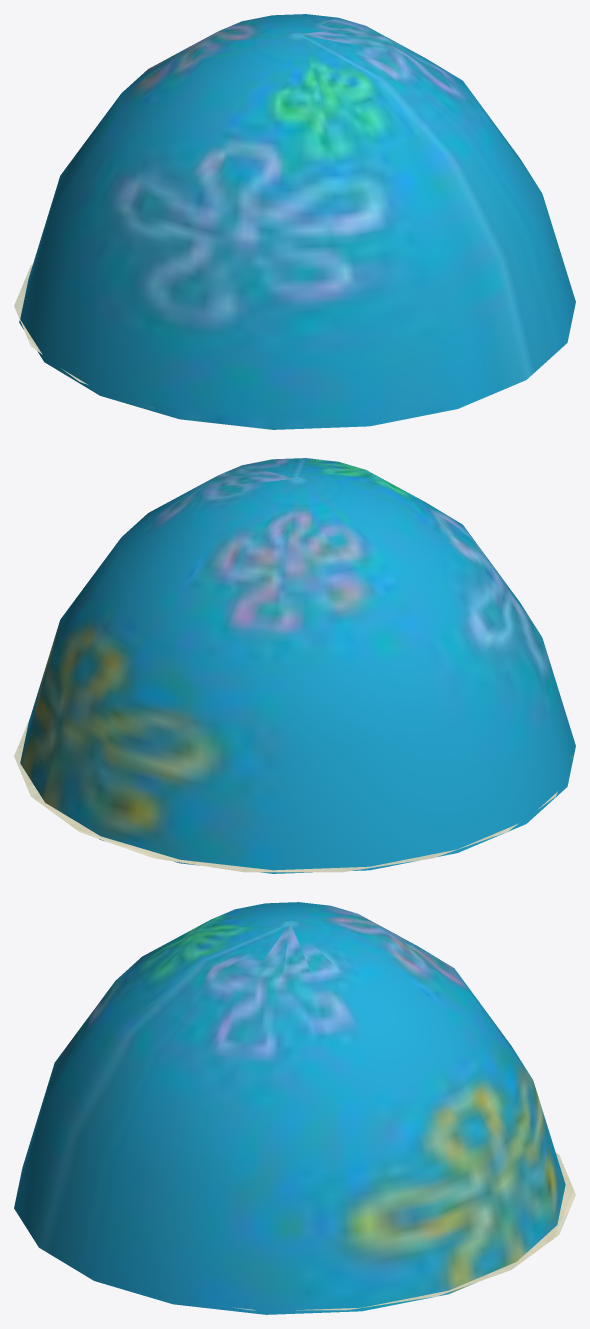
File: patricks-rock-v2-opt1.glb
The picture shows the model from 3 angles, top to bottom: view 1: azimuth 30°, elevation 25°; view 2: azimuth 150°, elevation 25°; view 3: azimuth 270°, elevation 25°; orthographic projection.
Parts seen in each view (by area): view 1: Skybox; view 2: Skybox, Sand; view 3: Skybox, Sand.
Part boxes in pixels (left/top/right/bottom): Skybox: left=19, top=14, right=575, bottom=429; Skybox: left=20, top=458, right=575, bottom=873; Sand: left=14, top=719, right=572, bottom=872; Skybox: left=14, top=902, right=565, bottom=1314; Sand: left=232, top=1152, right=575, bottom=1310.
Size of the model in its own units: 3.46 by 1.9 by 3.52.
Materials: 6 (5 with a texture image).
